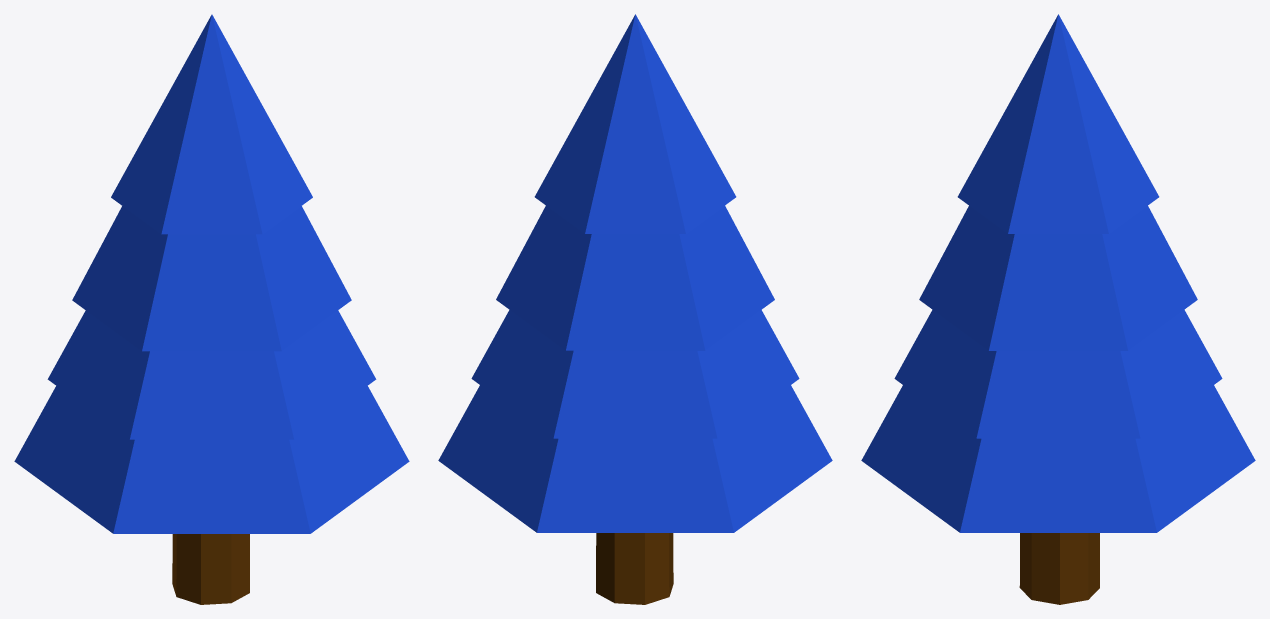
Rendered from GrandTree.fbx.
3 views of the same model, side by side, from view 1: azimuth 30°, elevation 25°; view 2: azimuth 150°, elevation 25°; view 3: azimuth 270°, elevation 25° (orthographic).
Parts seen in each view (by area): view 1: GrandTree; view 2: GrandTree; view 3: GrandTree.
Part boxes in pixels (<box>): GrandTree: <box>14,14,409,604</box>; GrandTree: <box>438,14,832,604</box>; GrandTree: <box>861,14,1255,604</box>.
Bounding box in the file's own units: 1076 × 1995 × 1242.
